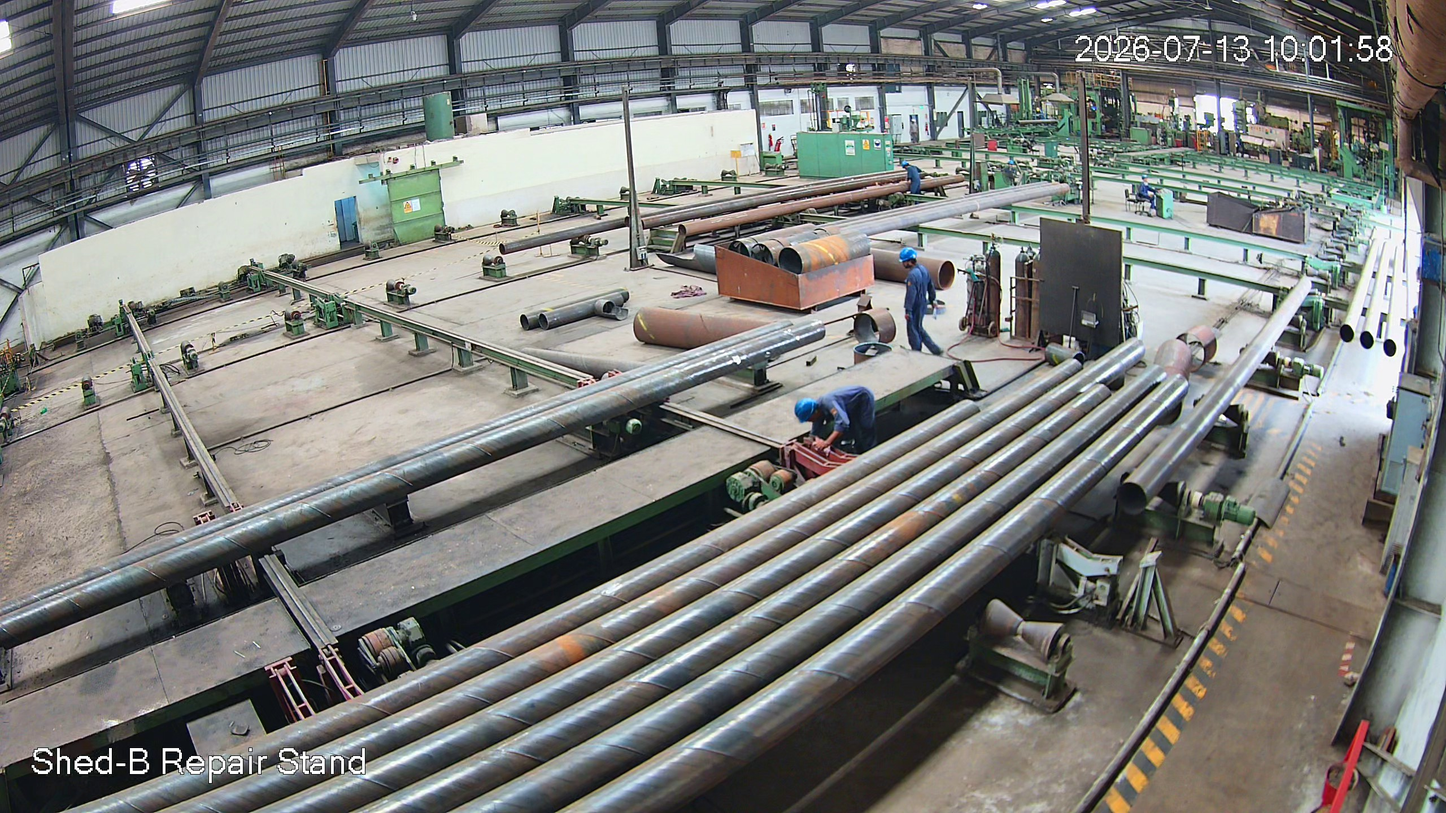Helmet: (790, 396, 830, 433), (897, 244, 925, 271)
Person: (896, 248, 952, 366), (792, 386, 887, 453)
